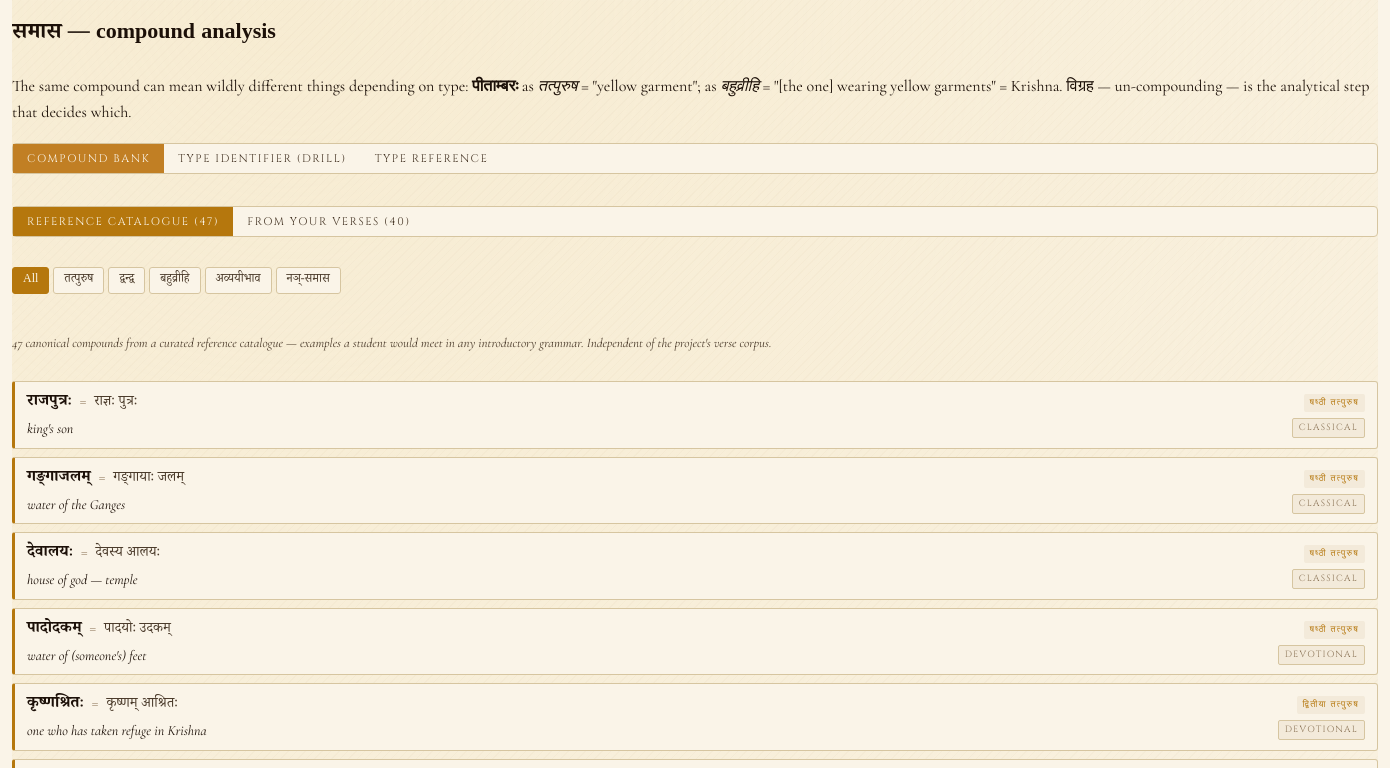
it: Samasa — view switcher › clicking "Type identifier (drill)" switches to the drill view
Step 1. Click the button "Type identifier (drill)" → (262,159), box [164,144,361,173]
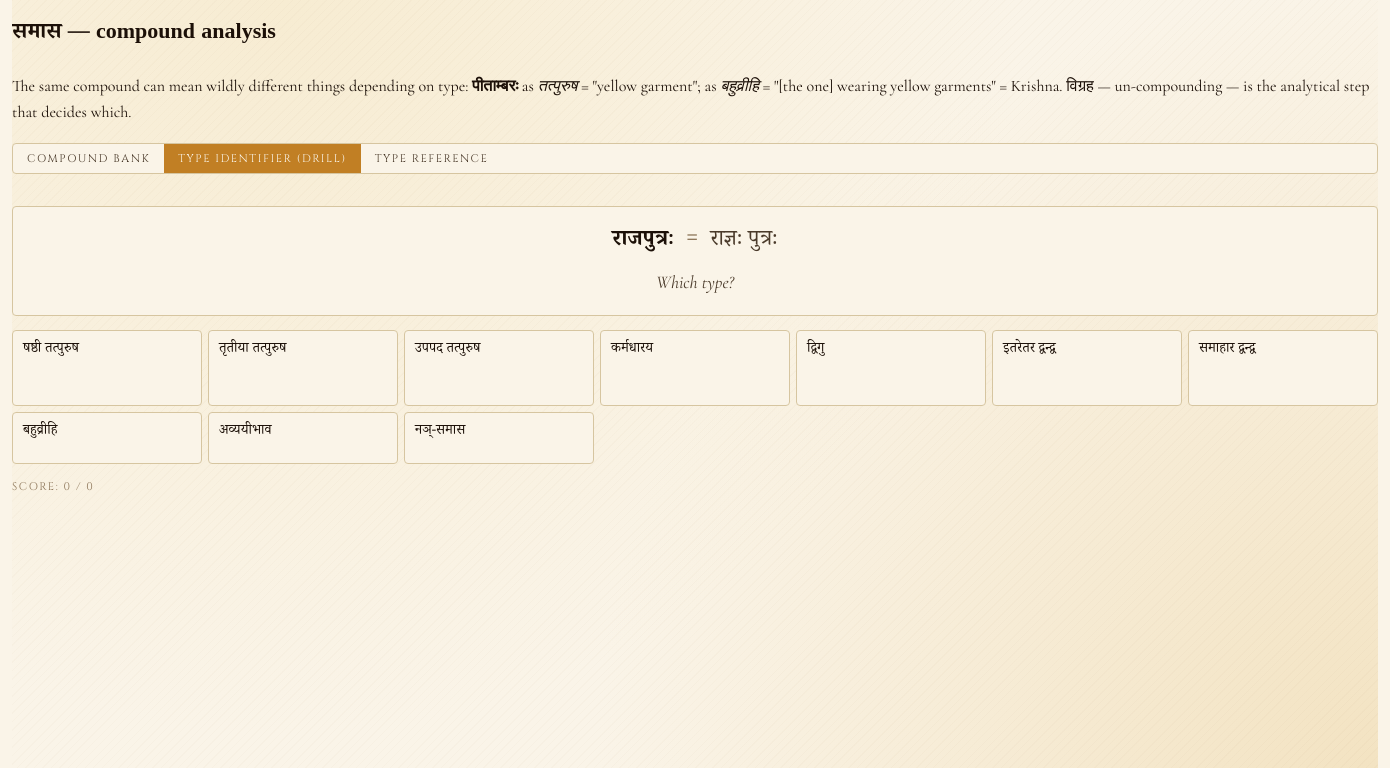
Check: the text "Which type?" is shown, box [656,271,734,293]
